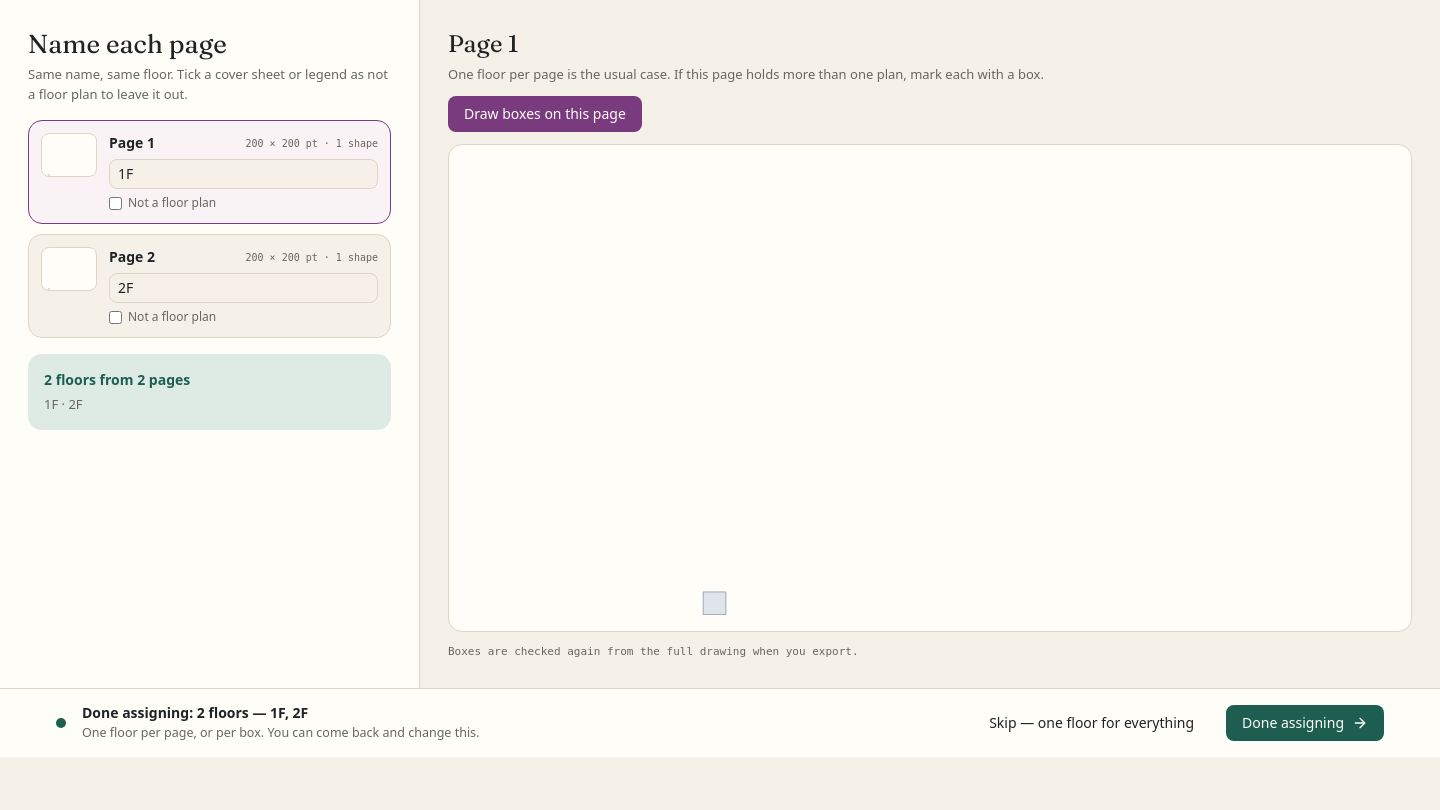
two pages named the same show a merge hint
The width and height of the screenshot is (1440, 810).
Replace the text in the field named "floor name" with "1F". click: [244, 288]
box: [109, 273, 378, 303]
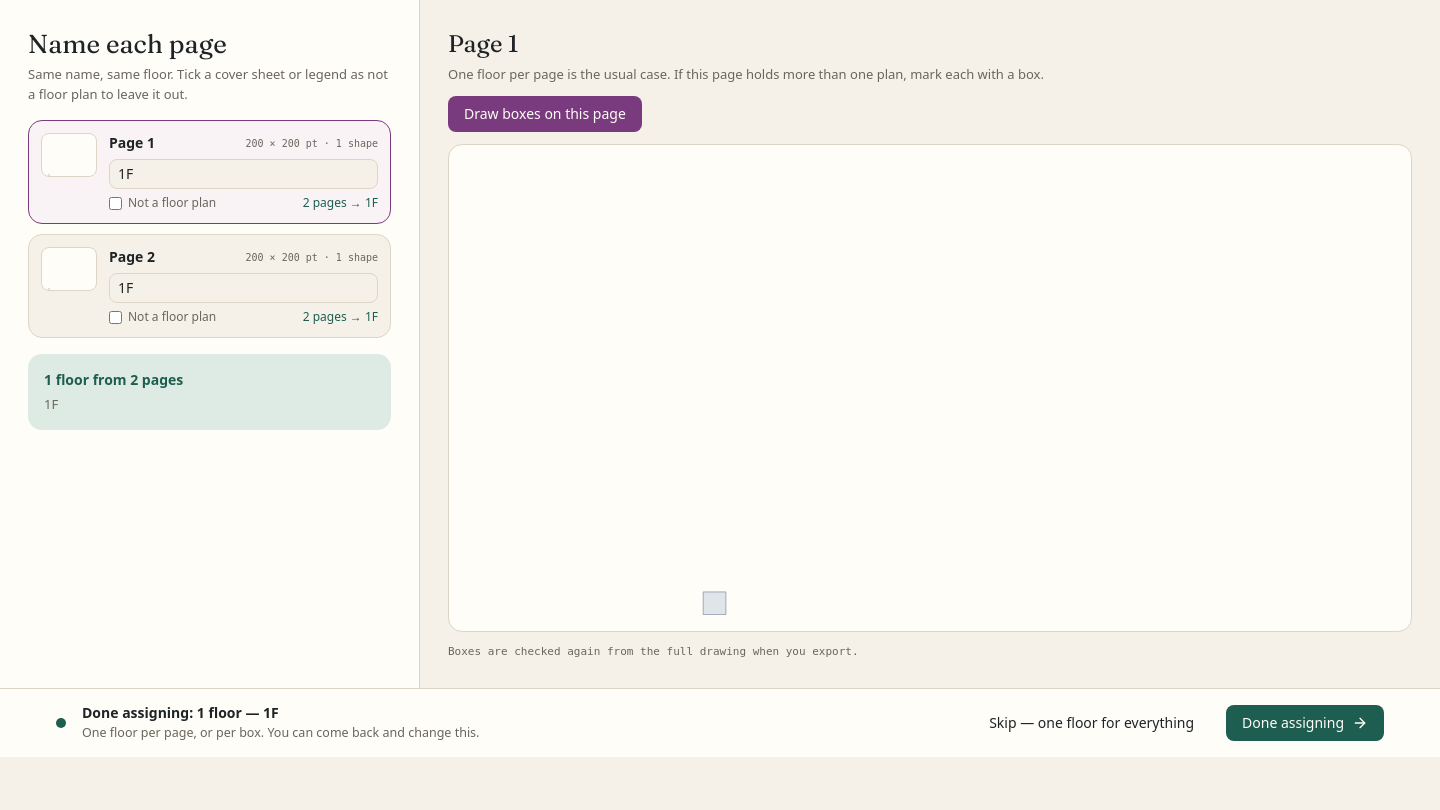
Expected: the 1st text "2 pages → 1F" is shown, [303, 195, 378, 211]
